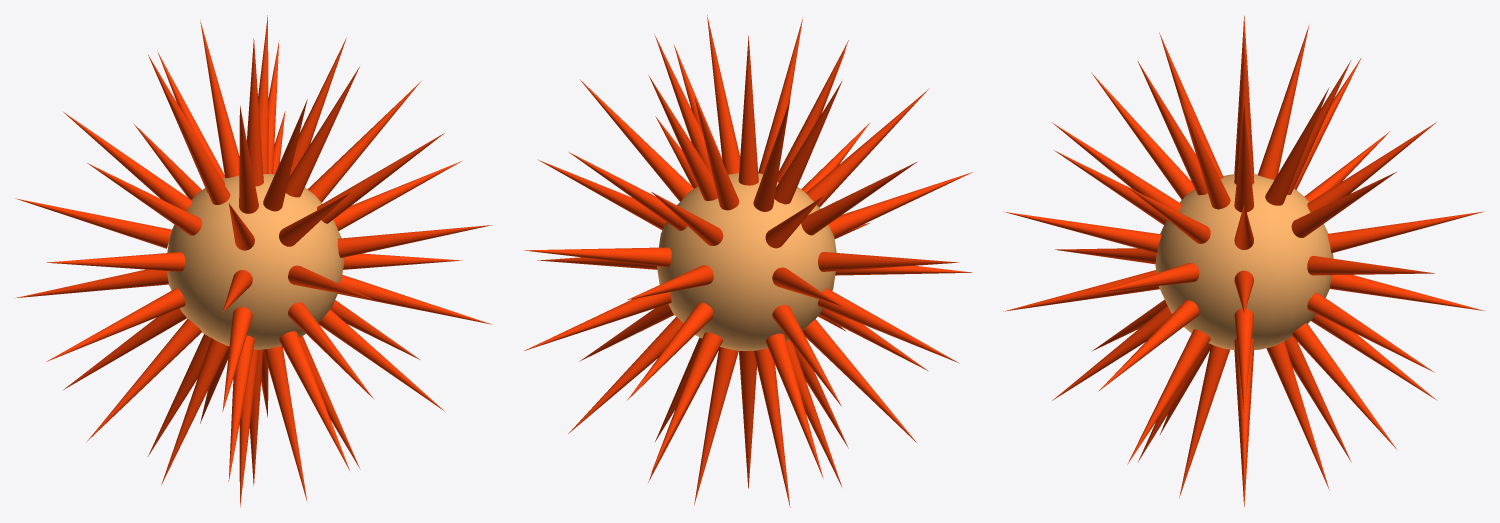
The picture shows the model from 3 angles, left to right: view 1: azimuth 30°, elevation 25°; view 2: azimuth 150°, elevation 25°; view 3: azimuth 270°, elevation 25°; orthographic projection.
Visible parts, largest first — view 1: Component_1 (×44), Component_2; view 2: Component_1 (×42), Component_2; view 3: Component_1 (×38), Component_2.
Boxes of the visible parts, <box> form: Component_1 (×44): <box>15,15,492,507</box>; Component_2: <box>167,173,344,349</box>; Component_1 (×42): <box>524,15,972,507</box>; Component_2: <box>657,173,836,350</box>; Component_1 (×38): <box>1003,25,1484,498</box>; Component_2: <box>1155,174,1333,350</box>.
Size of the model in its own units: 436 by 436 by 447.
